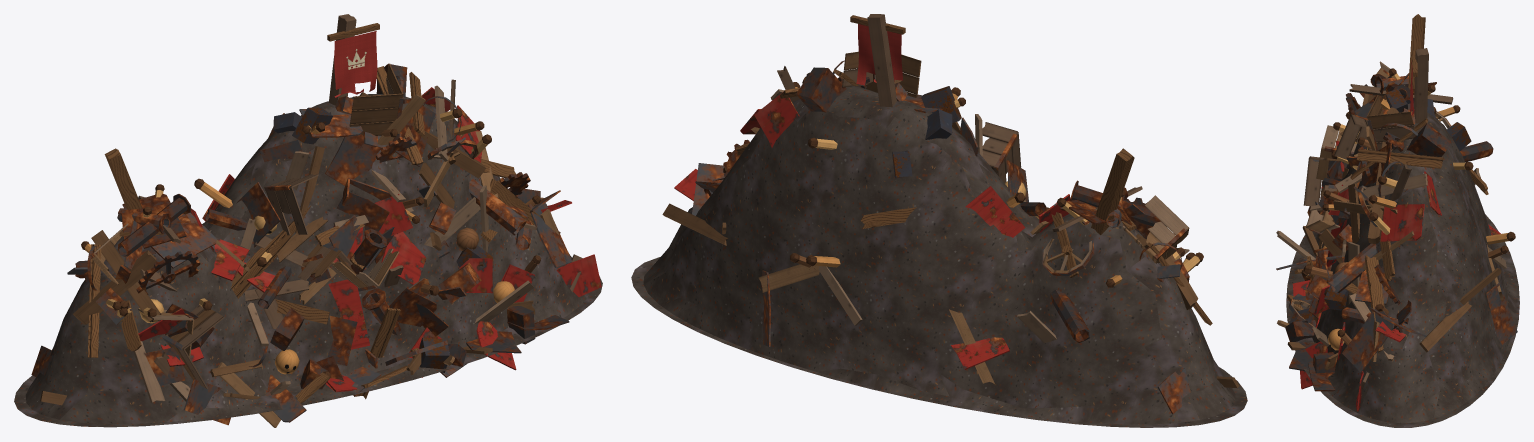
Rendered from Scrap_Heap_Massive.glb.
3 views of the same model, side by side, from view 1: azimuth 30°, elevation 25°; view 2: azimuth 150°, elevation 25°; view 3: azimuth 270°, elevation 25° (orthographic). The views are drawn at different scales.
Parts seen in each view (by area): view 1: Scrap_Heap_Massive; view 2: Scrap_Heap_Massive; view 3: Scrap_Heap_Massive.
Boxes of the visible parts, x1,y1,x2,y2 form: Scrap_Heap_Massive: [14, 14, 602, 427]; Scrap_Heap_Massive: [631, 14, 1247, 427]; Scrap_Heap_Massive: [1276, 14, 1519, 427].
Size of the model in its own units: 10.27 by 5.78 by 4.23.
Materials: 15 (14 with a texture image).
